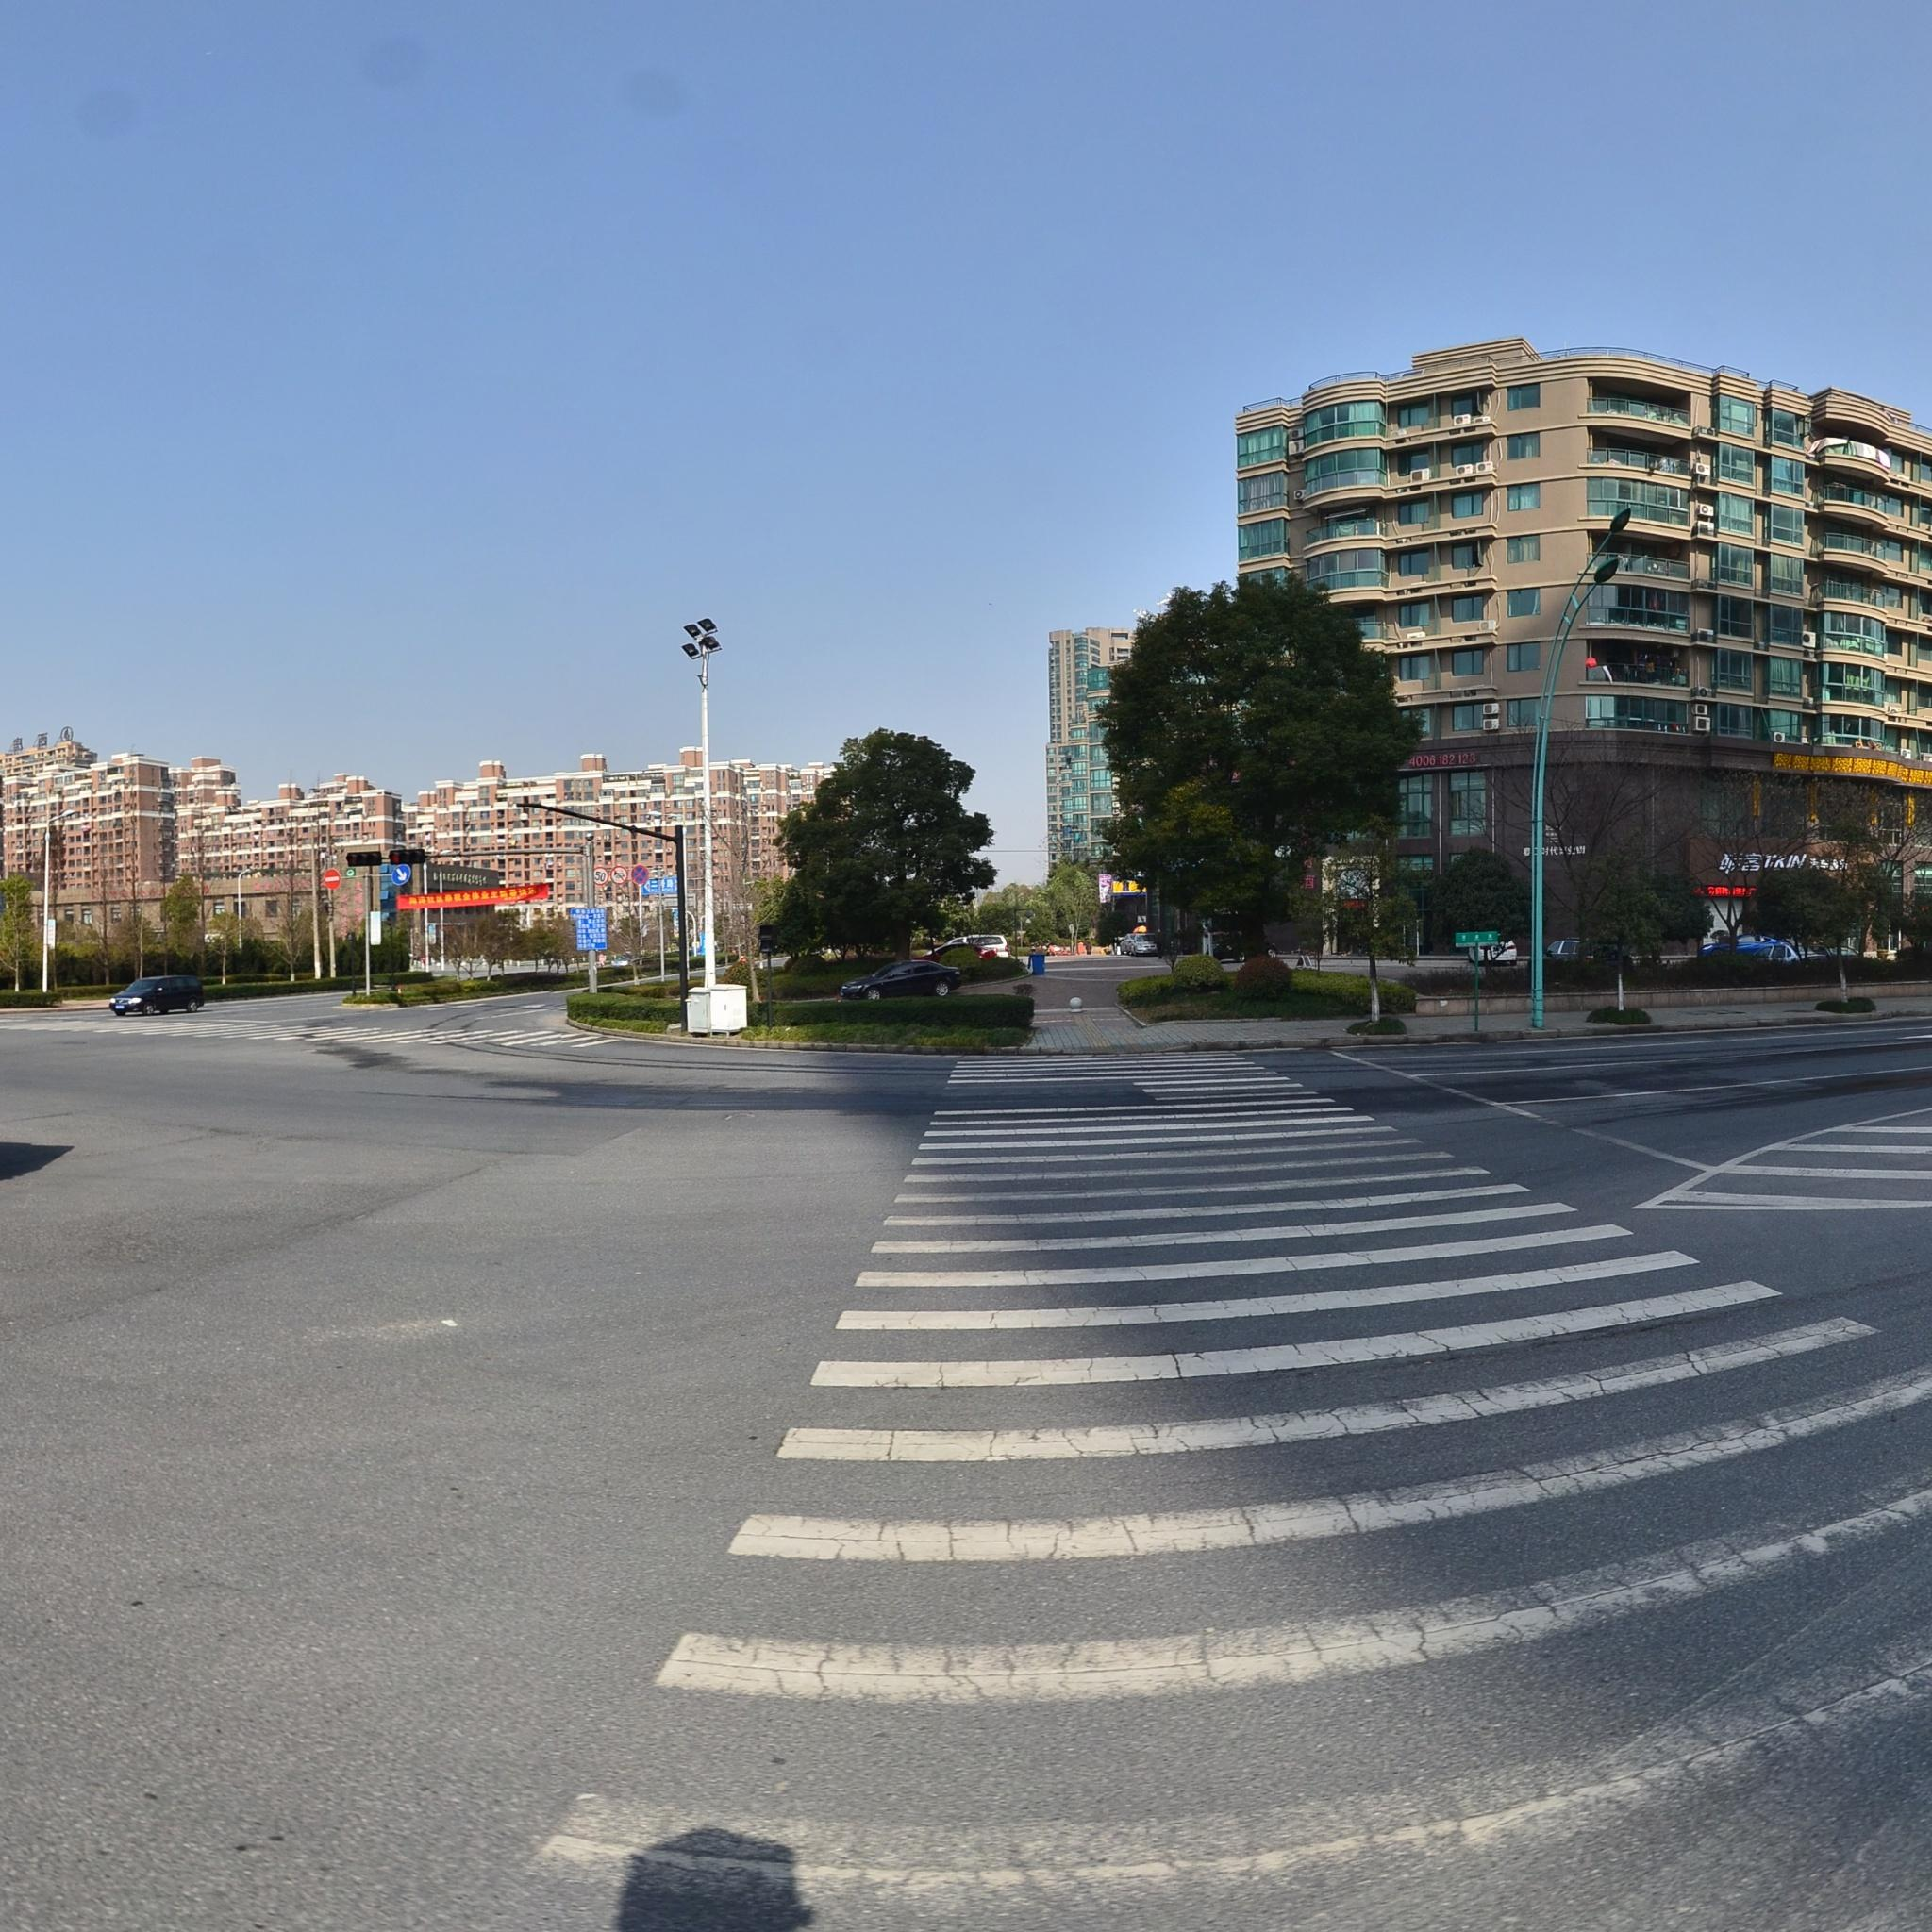i5: (389, 862, 410, 886)
p11: (612, 865, 628, 881)
pl50: (594, 865, 607, 886)
pn: (633, 865, 648, 886)
pne: (322, 869, 340, 890)
